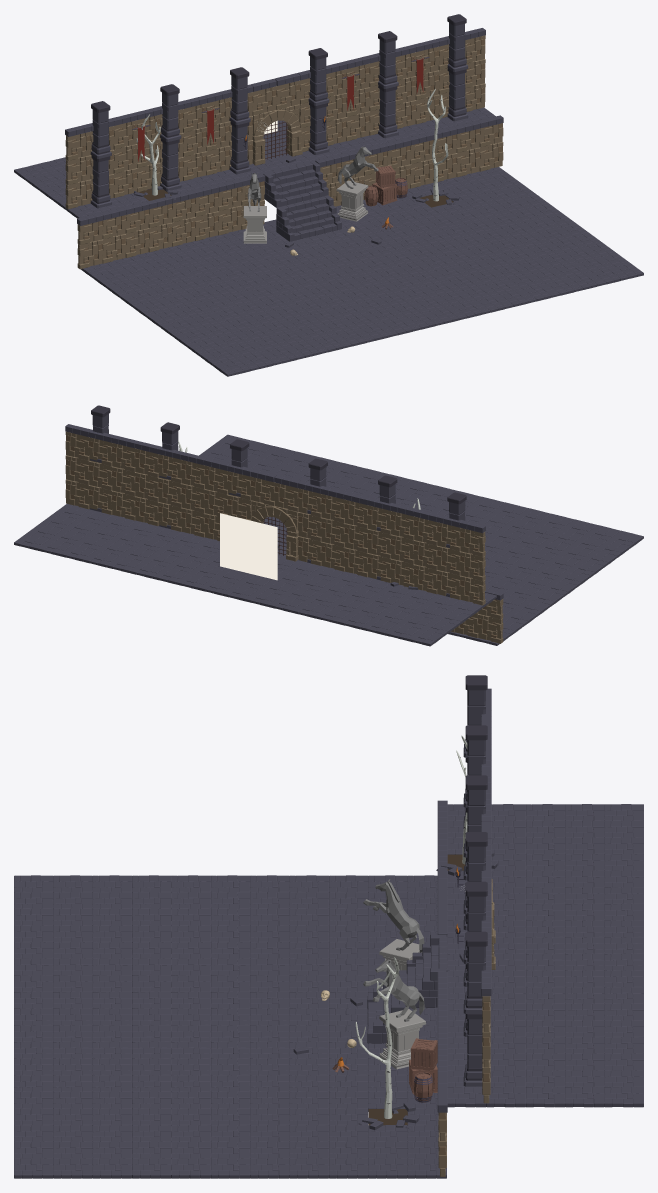
The model's file is gate.glb.
The picture shows the model from 3 angles, top to bottom: view 1: azimuth 30°, elevation 25°; view 2: azimuth 150°, elevation 25°; view 3: azimuth 270°, elevation 25°; orthographic projection. The views are drawn at different scales.
Parts seen in each view (by area): view 1: Arch.001, Statue_Horse.001, Statue_Horse, Column.006, Column.002, Column.004, Column.008, Column.010, Column.012, Column.005, Column.007, Column.011 (+35 smaller); view 2: GateGlow, Arch.001, Wall_Modular.016, Wall_Modular.048, Wall_Modular.064, Wall_Modular.080, Wall_Modular.050, Wall_Modular.053, Wall_Modular.037, Wall_Modular.052, Wall_Modular.036, Wall_Modular.057 (+75 smaller); view 3: Statue_Horse.001, Statue_Horse, Column.012, Column.011, BirchTree_Dead_5.001, Column.002, Column.006, Column.008, Column.004, Column.010, Floor_Modular.272, Floor_Modular.274 (+70 smaller).
Boxes of the visible parts, x1,y1,x2,y2 form: Arch.001: (252,104,302,165); Statue_Horse.001: (336,145,378,221); Statue_Horse: (243,173,266,243); Column.006: (160,84,181,141); Column.002: (229,67,250,124); Column.004: (308,48,329,105); Column.008: (378,31,398,88); Column.010: (90,101,111,158); Column.012: (447,14,468,71); Column.005: (160,138,181,191); Column.007: (378,85,398,138); Column.011: (447,68,468,121); GateGlow: (220,513,277,580); Arch.001: (251,500,298,561); Wall_Modular.016: (477,614,503,643); Wall_Modular.048: (460,575,485,605); Wall_Modular.064: (460,551,485,581); Wall_Modular.080: (460,528,485,556); Wall_Modular.050: (298,512,321,541); Wall_Modular.053: (181,483,204,513); Wall_Modular.037: (181,507,204,537); Wall_Modular.052: (321,517,344,547); Wall_Modular.036: (321,542,344,571); Wall_Modular.057: (135,472,158,501); Statue_Horse.001: (363,958,426,1069); Statue_Horse: (363,879,424,988); Column.012: (463,931,487,1013); Column.011: (463,1014,482,1086); BirchTree_Dead_5.001: (355,957,399,1118); Column.002: (463,775,487,857); Column.006: (463,725,487,807); Column.008: (463,881,487,964); Column.004: (463,832,487,914); Column.010: (463,675,487,757); Floor_Modular.272: (53,1158,92,1178); Floor_Modular.274: (132,1158,171,1178).
Bounding box in the file's own units: 36.61 × 12.5 × 32.
